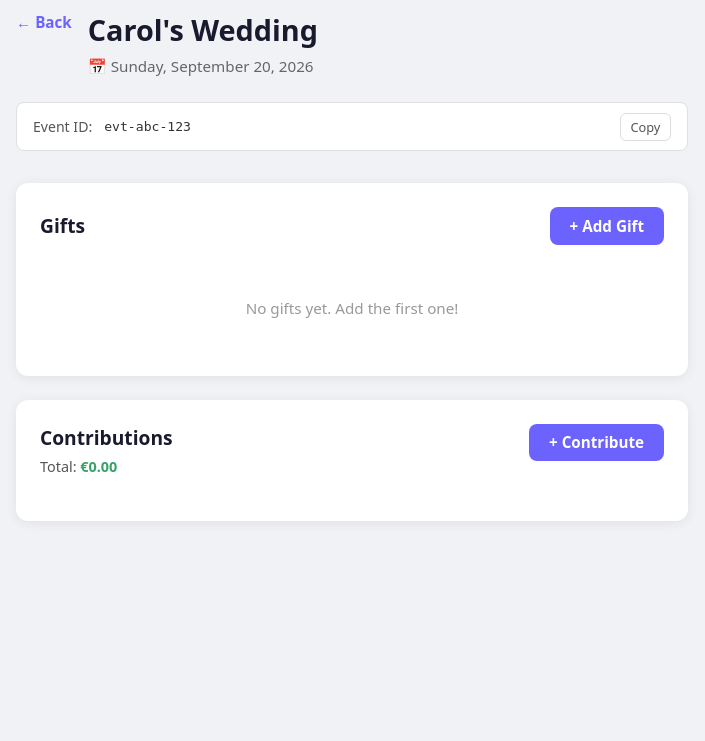
Scenario: Event Page — gift list › adds a gift with name only and shows it in the list
This screenshot has width=705, height=741.
Click the button with test id "EventPage__addGiftBtn" at (607, 226), box [550, 207, 664, 245]
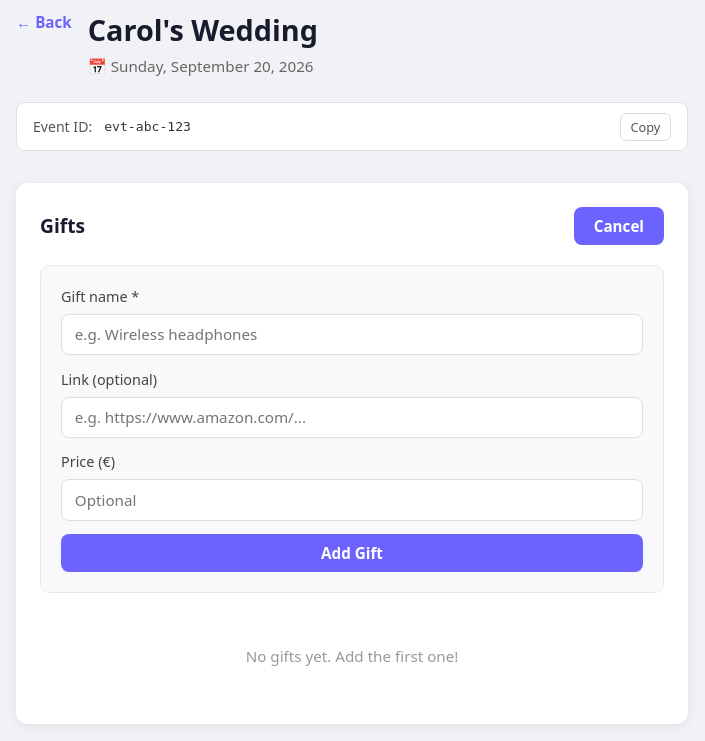
Type "Book" into the field with test id "EventPage__giftNameInput" at (352, 335), box [61, 314, 643, 355]
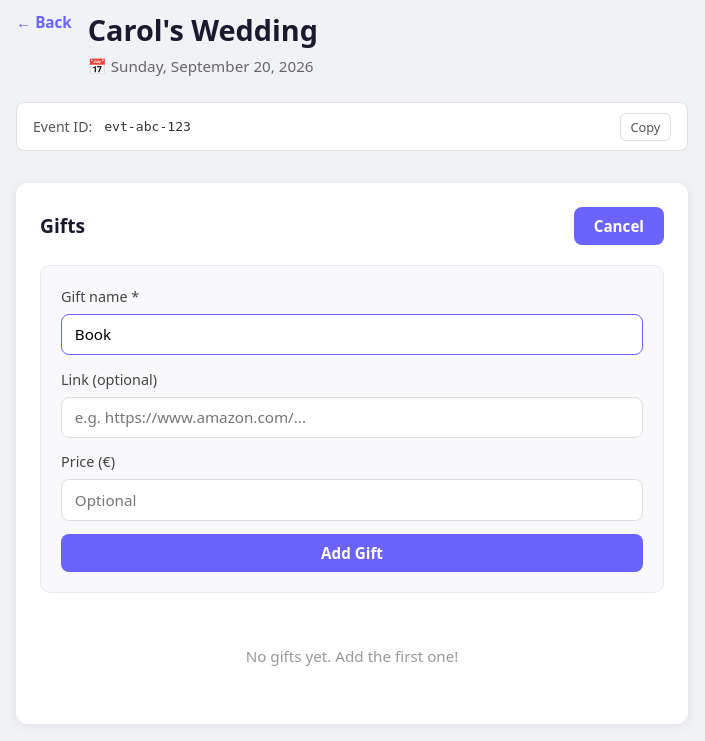
Click the button with test id "EventPage__giftSubmit" at (352, 553), box [61, 534, 643, 572]
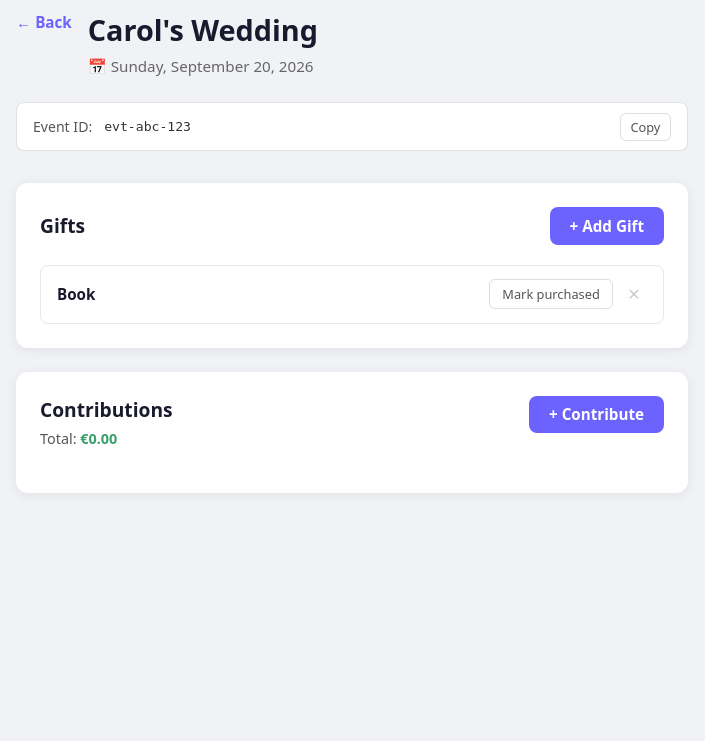
expect the text "Book" is shown: met, box [57, 283, 95, 306]
